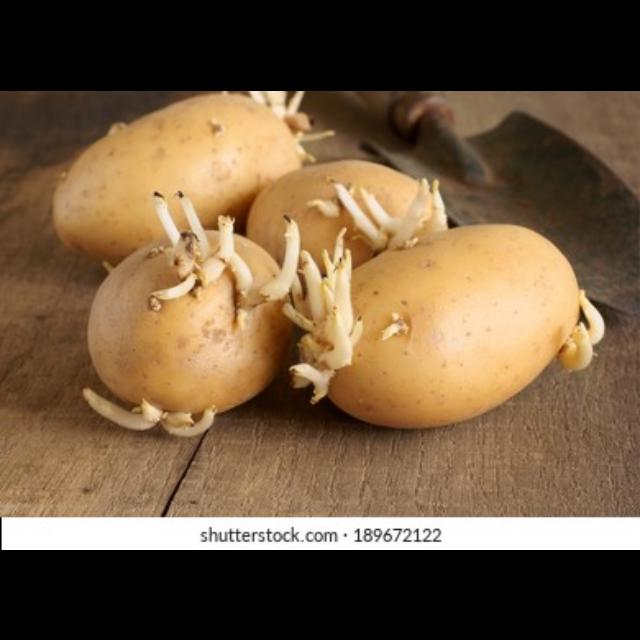Sprouted potato: (275, 213, 609, 434), (85, 190, 368, 440), (44, 93, 328, 284), (237, 152, 455, 282)
